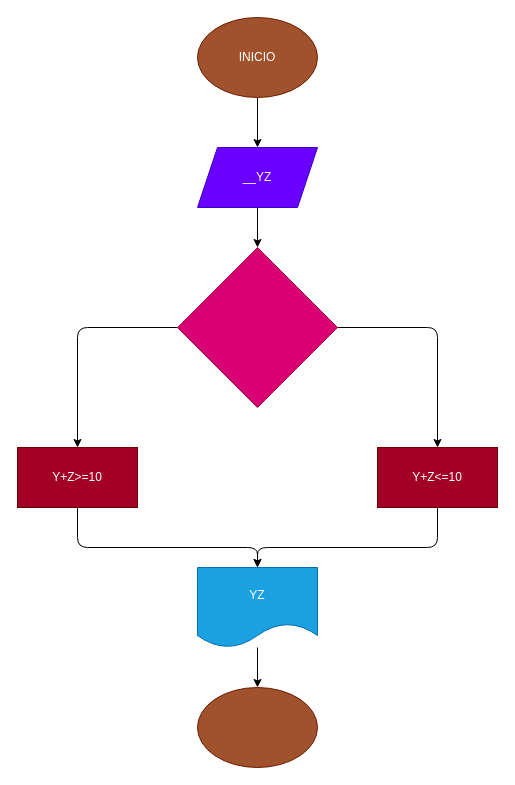
Some shapes in this 515 by 785 pixel diagram are drawn without their labels. Here are the shapes that lost their labels. From the top down, the centre of each, then its label:
(257,327): Y+Z
(257,727): FIN
